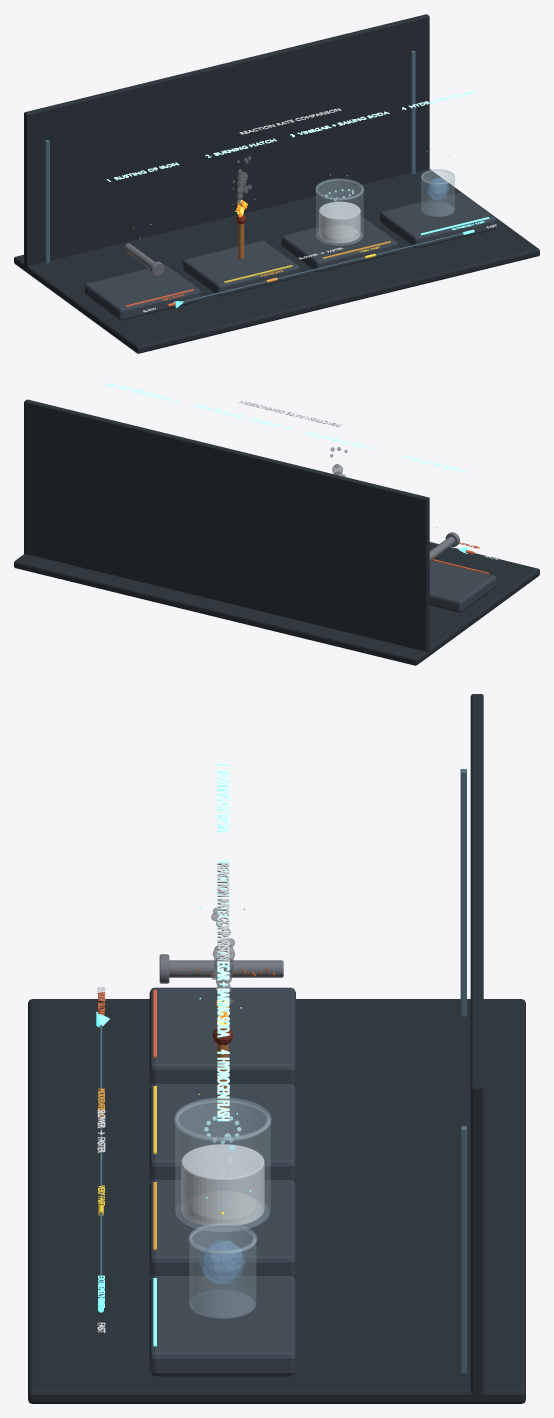
The model's file is chemical_reaction.glb.
3 views of the same model, one above another, from view 1: azimuth 30°, elevation 25°; view 2: azimuth 150°, elevation 25°; view 3: azimuth 270°, elevation 25° (orthographic). The views are drawn at different scales.
Visible parts, largest first — view 1: LaboratoryBackWall, LaboratoryFloor, ReactionPlatform_4, ReactionPlatform_2, ReactionPlatform_1, ReactionPlatform_3, Glass_Beaker, Vinegar_Liquid, Hydrogen_Demo_Vessel, LabVerticalStrip.001, LabVerticalStrip, SpeedIndicatorLine; view 2: LaboratoryBackWall, LaboratoryFloor, ReactionPlatform_1; view 3: LaboratoryFloor, ReactionPlatform_4, ReactionPlatform_1, Glass_Beaker, ReactionPlatform_2, ReactionPlatform_3, LaboratoryBackWall, Vinegar_Liquid, Hydrogen_Demo_Vessel, Iron_Nail, LabVerticalStrip, LabVerticalStrip.001 (+4 smaller).
Boxes of the visible parts, box(x1,y1,x2,y2) form: LaboratoryBackWall: box(24, 14, 429, 267); LaboratoryFloor: box(14, 168, 539, 353); ReactionPlatform_4: box(380, 192, 496, 248); ReactionPlatform_2: box(183, 240, 299, 296); ReactionPlatform_1: box(84, 264, 200, 320); ReactionPlatform_3: box(281, 216, 397, 272); Glass_Beaker: box(316, 180, 363, 245); Vinegar_Liquid: box(319, 201, 360, 243); Hydrogen_Demo_Vessel: box(421, 170, 454, 216); LabVerticalStrip.001: box(410, 50, 415, 174); LabVerticalStrip: box(45, 140, 49, 263); SpeedIndicatorLine: box(183, 233, 463, 302); LaboratoryBackWall: box(24, 399, 429, 654); LaboratoryFloor: box(14, 543, 539, 665); ReactionPlatform_1: box(429, 560, 496, 612); LaboratoryFloor: box(28, 999, 525, 1403); ReactionPlatform_4: box(149, 1276, 295, 1376); ReactionPlatform_1: box(149, 987, 295, 1085); Glass_Beaker: box(175, 1100, 270, 1231); ReactionPlatform_2: box(149, 1083, 295, 1181); ReactionPlatform_3: box(149, 1179, 295, 1277); LaboratoryBackWall: box(470, 694, 483, 1398); Vinegar_Liquid: box(181, 1144, 264, 1225); Hydrogen_Demo_Vessel: box(189, 1225, 255, 1318); Iron_Nail: box(169, 960, 283, 977); LabVerticalStrip: box(460, 769, 466, 1016); LabVerticalStrip.001: box(460, 1126, 466, 1373).
Size of the model in its own units: 17.2 by 6.5 by 9.2.
